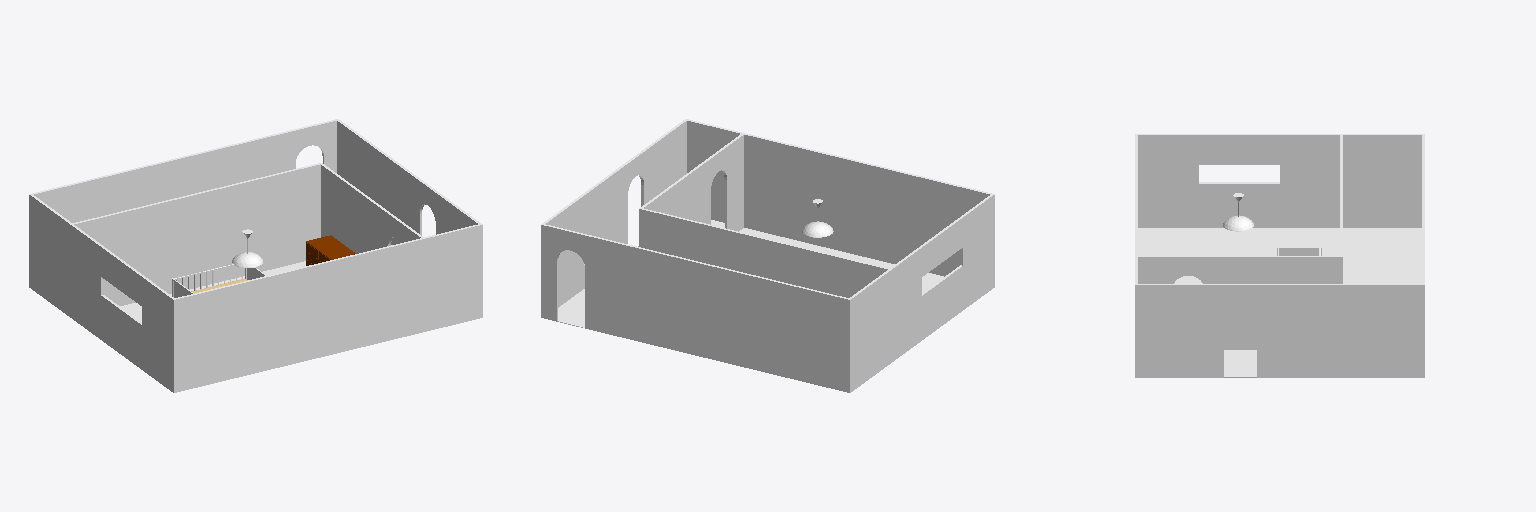
Rendered from Magui'sModel.obj.
The picture shows the model from 3 angles: view 1: azimuth 30°, elevation 25°; view 2: azimuth 150°, elevation 25°; view 3: azimuth 270°, elevation 25°; orthographic projection.
Parts seen in each view (by area): view 1: wall_3_16, wall_1_5, wall_8_46, wall_4_22, wall_7_40, wall_6_35, wall_2_11, wall_9_53, Corps_70, room_10_56; view 2: wall_8_47, wall_3_17, wall_1_4, wall_4_22, wall_7_40, wall_2_11, wall_9_53, wall_6_34, room_10_56, room_11_57; view 3: wall_7_41, wall_4_23, wall_9_52, wall_2_10, room_10_56, room_11_57.
Part boxes in pixels (x1,y1,x2,y2): wall_3_16: (174,239,425,392); wall_1_5: (74,164,320,305); wall_8_46: (34,121,336,222); wall_4_22: (70,225,173,392); wall_7_40: (337,121,477,244); wall_6_35: (426,225,482,331); wall_2_11: (321,165,420,253); wall_9_53: (29,195,69,316); Corps_70: (306,235,355,259); room_10_56: (120,261,305,321); wall_8_47: (541,225,849,392); wall_3_17: (744,135,989,276); wall_1_4: (639,209,887,297); wall_4_22: (892,195,994,361); wall_7_40: (546,121,686,307); wall_2_11: (644,135,743,231); wall_9_53: (850,270,891,392); wall_6_34: (687,121,739,222); room_10_56: (739,228,943,292); room_11_57: (558,220,724,327); wall_7_41: (1135,285,1424,377); wall_4_23: (1138,135,1339,227); wall_9_52: (1343,135,1421,227); wall_2_10: (1138,257,1342,349); room_10_56: (1138,228,1339,283); room_11_57: (1224,228,1421,376).
Size of the model in its own units: 868 by 250 by 704.